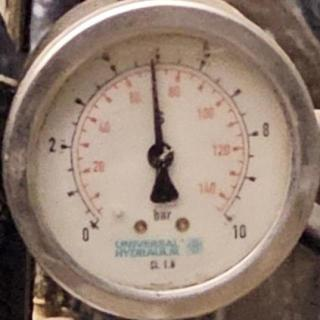gauge: (15, 21, 309, 305), (203, 195, 253, 245), (69, 198, 117, 248), (144, 140, 176, 171), (145, 50, 159, 70)
